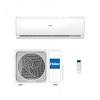ac: (14, 14, 91, 42)
